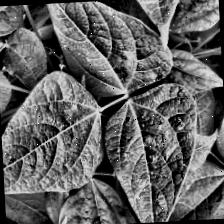Bean Rust: (102, 80, 202, 224), (0, 66, 105, 195), (33, 0, 171, 95)
